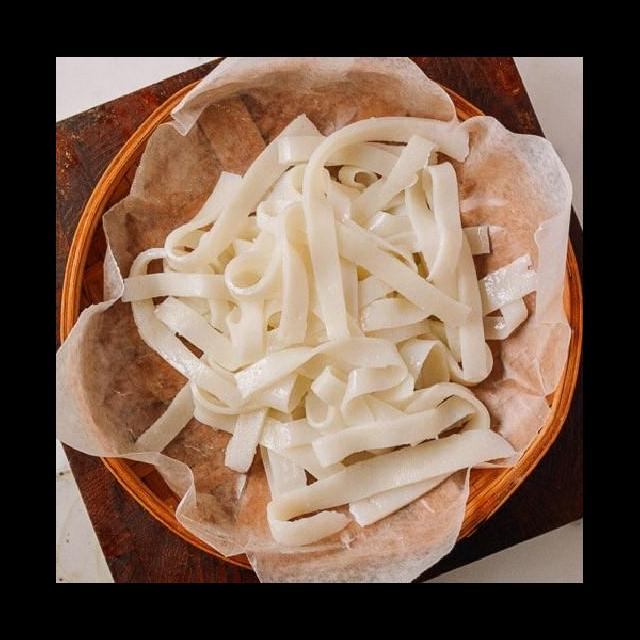banh pho: (116, 107, 544, 550)
